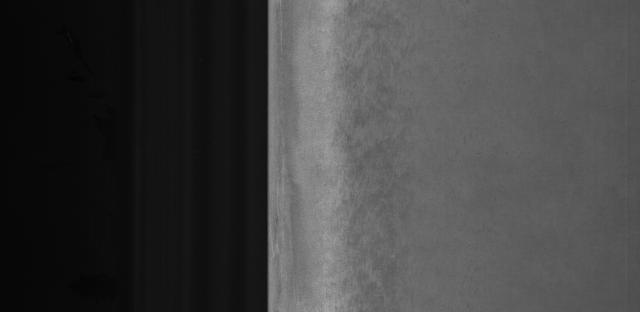silk_spot: (342, 62, 413, 284)
